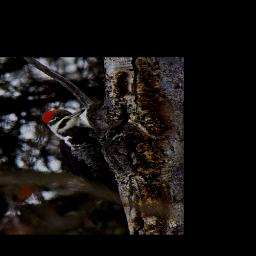Woodpecker: (39, 107, 117, 194)
